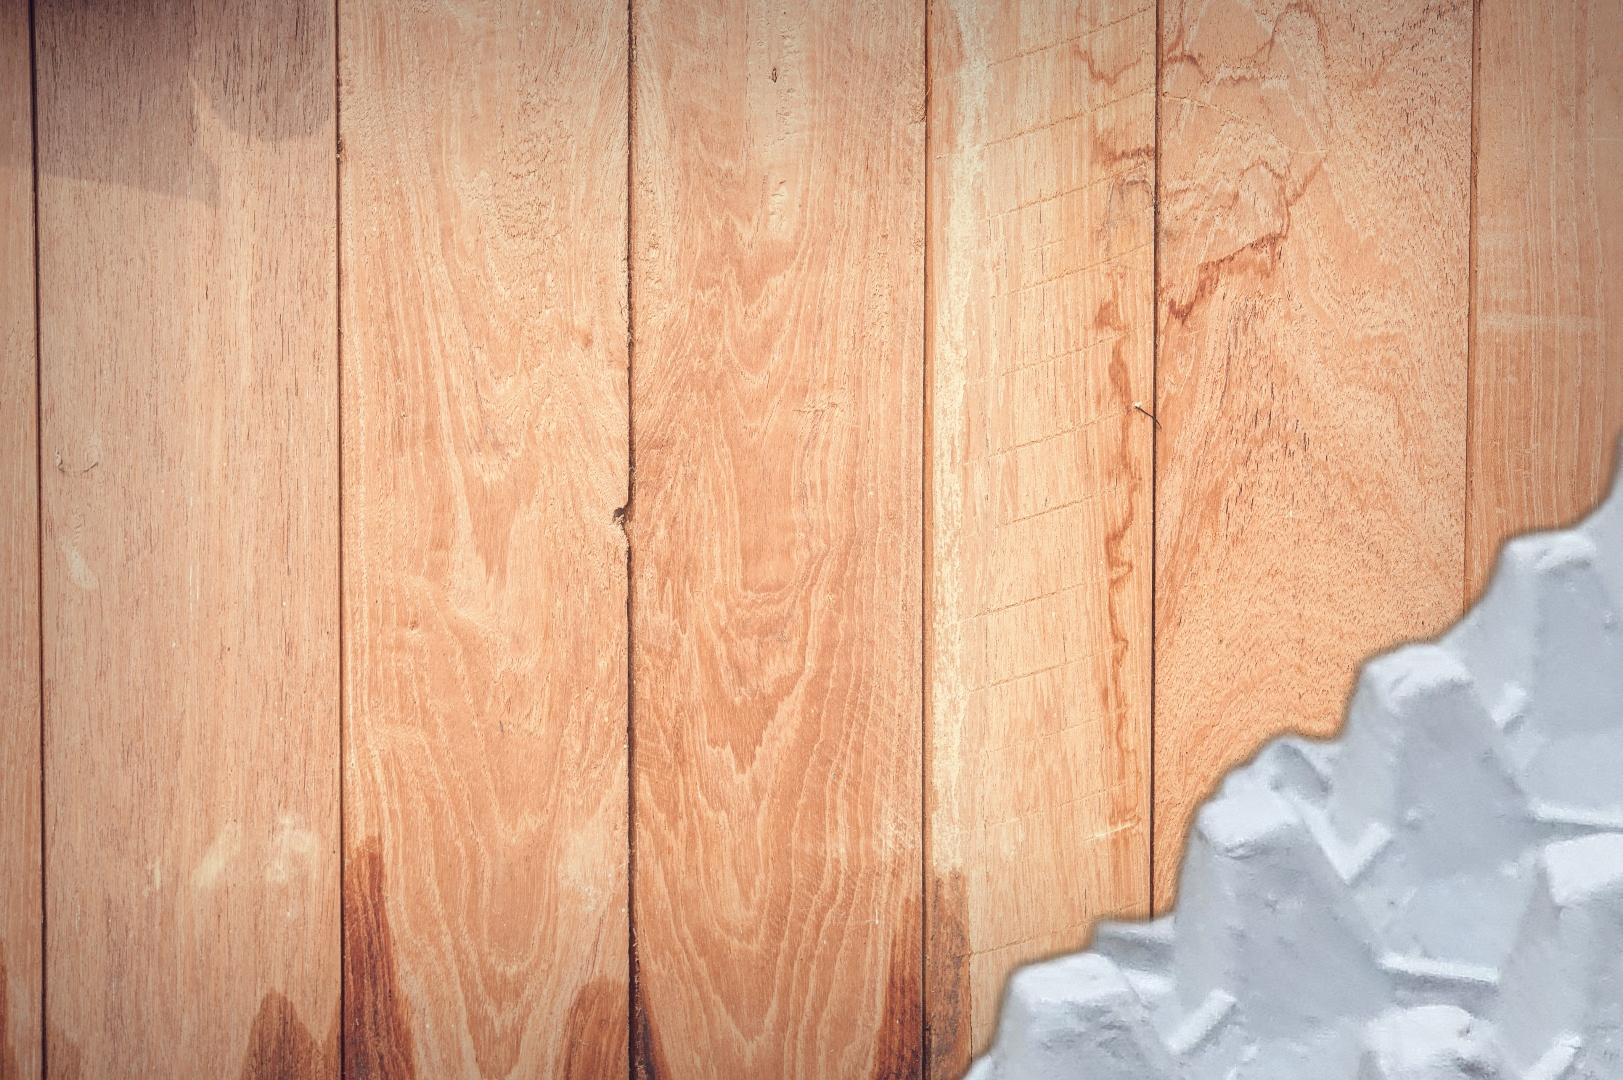glass: (2, 1079, 116, 1080)
trashbox-cardboard: (658, 329, 1623, 1080)
